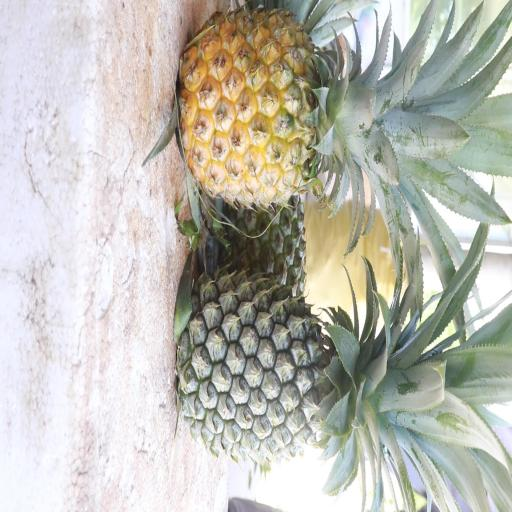Pineapple - v8 v1: (174, 1, 434, 214)
